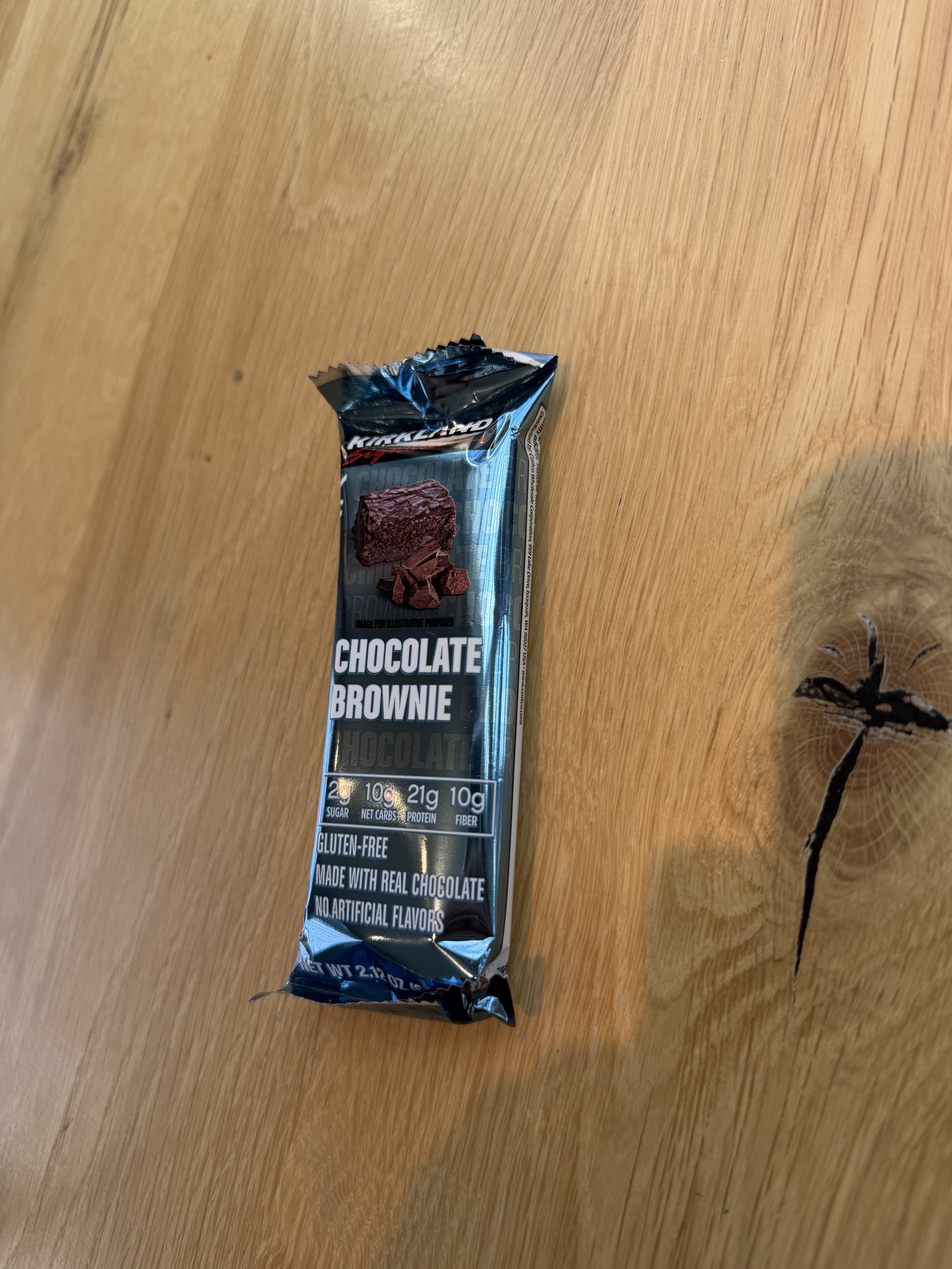chocolate_brownie: (249, 339, 568, 1043)
